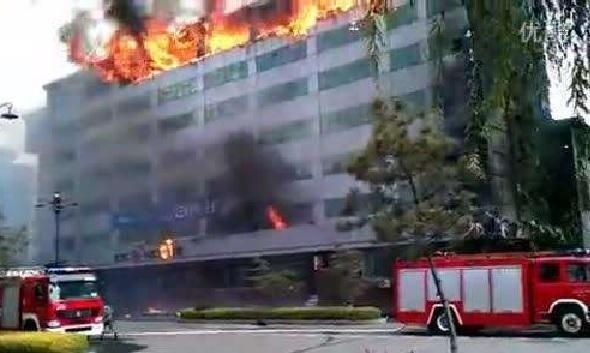fire: (86, 0, 391, 85), (266, 204, 286, 227)
